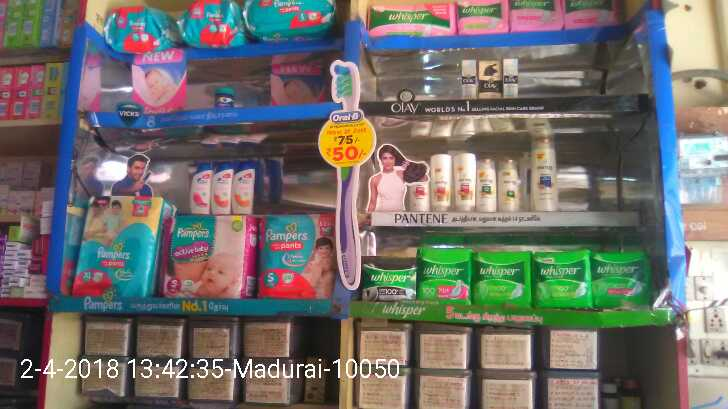vicks: (212, 85, 238, 112)
